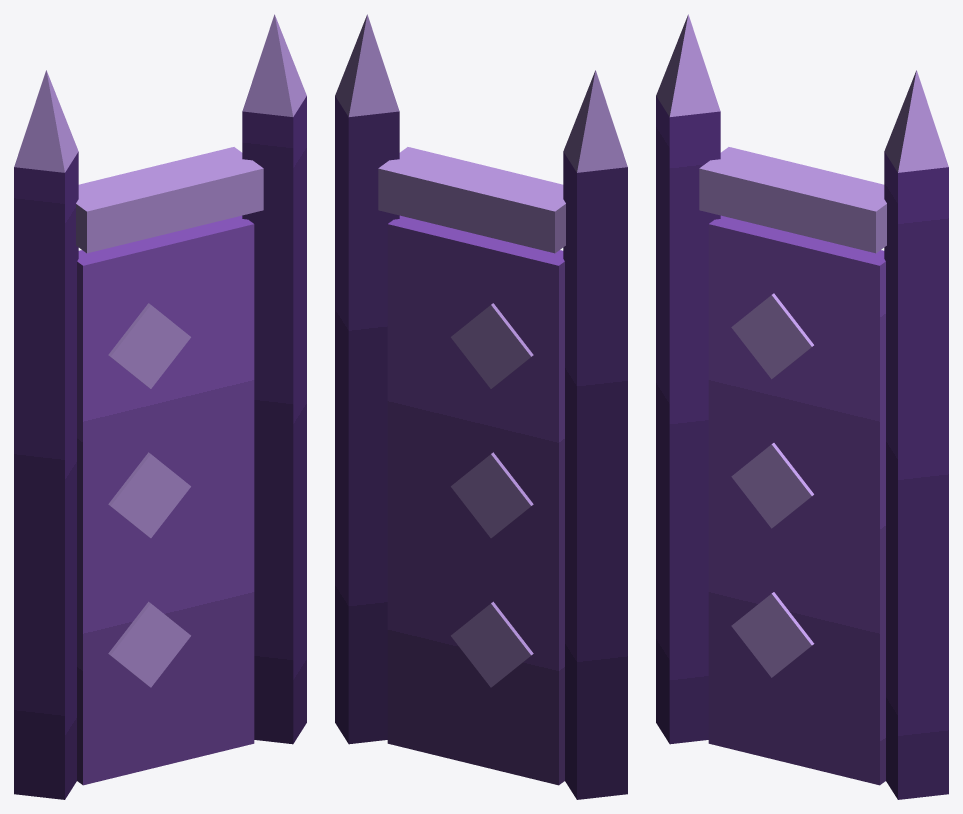
The model's file is door_crystal.glb.
The picture shows the model from 3 angles, left to right: view 1: azimuth 30°, elevation 25°; view 2: azimuth 150°, elevation 25°; view 3: azimuth 330°, elevation 25°; orthographic projection.
Size of the model in its own units: 1.03 by 2.4 by 0.2263.
Materials: 1 (1 with a texture image).
